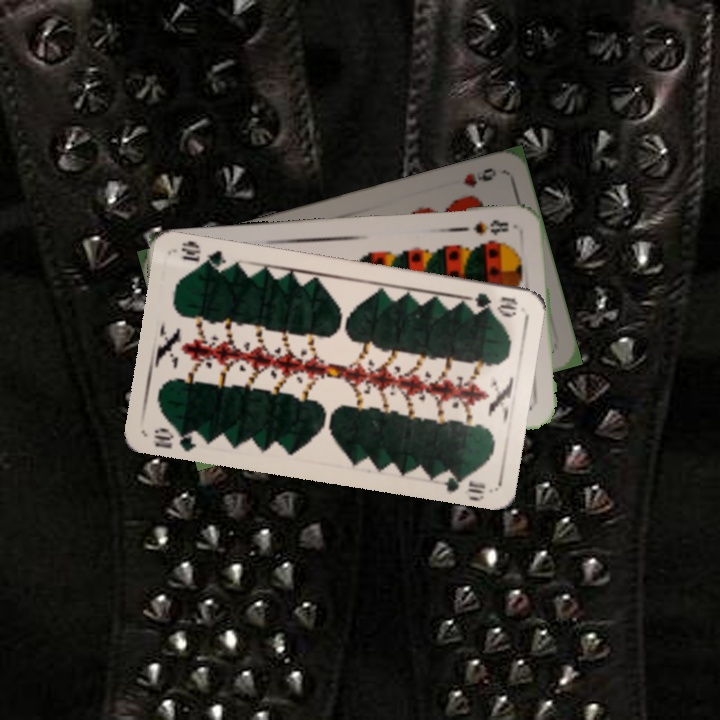G10: (462, 288, 521, 318), (149, 423, 206, 454)
H9: (458, 163, 499, 190)
S8: (469, 216, 511, 238)
